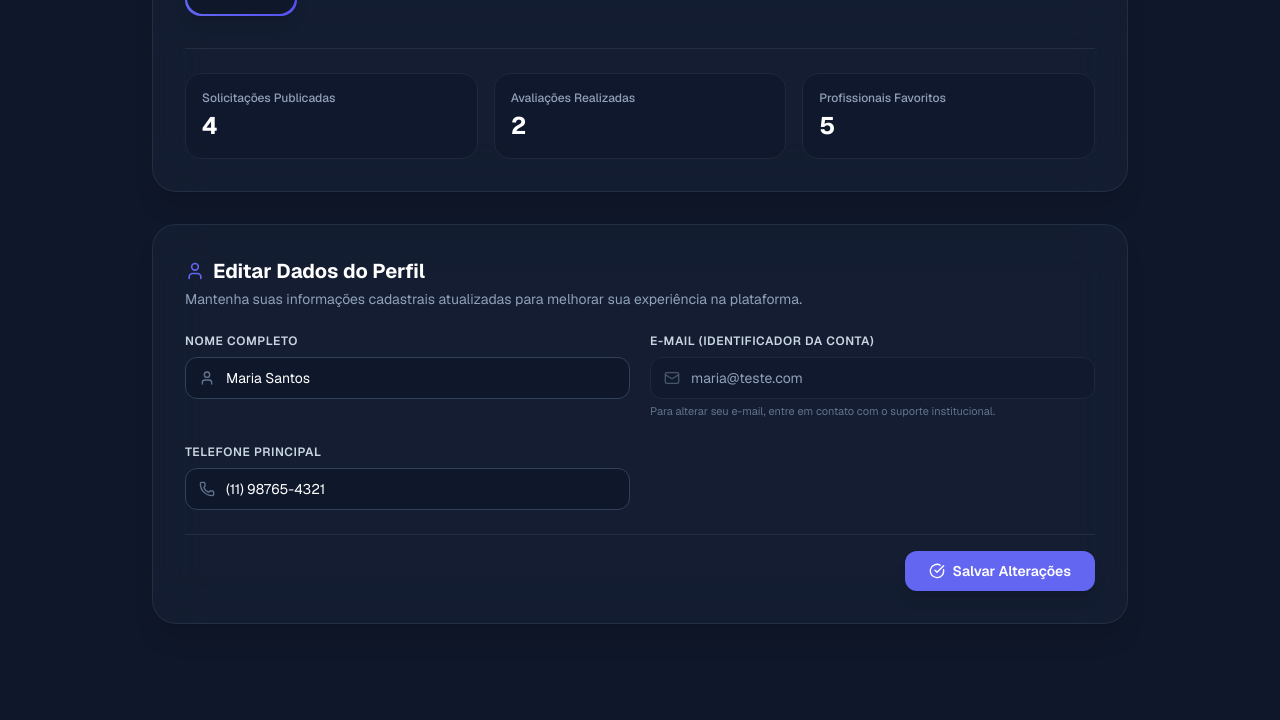
Scenario: UI: PerfilClient › deve exibir alerta de erro quando a API retornar falha
(page scrolled)
Click the button "Salvar Alterações". click: (1000, 570)
box: [904,550,1095,590]
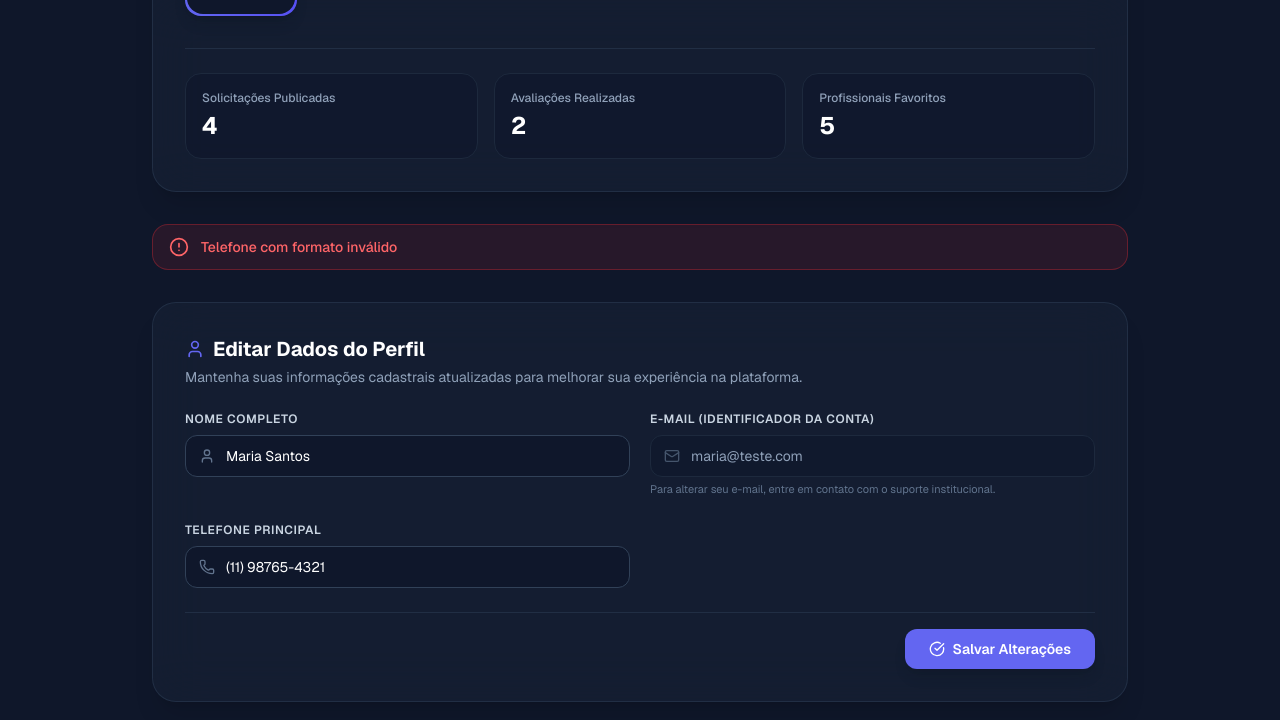
expect the text "Telefone com formato inválido" is shown: met, box [201,237,397,257]
